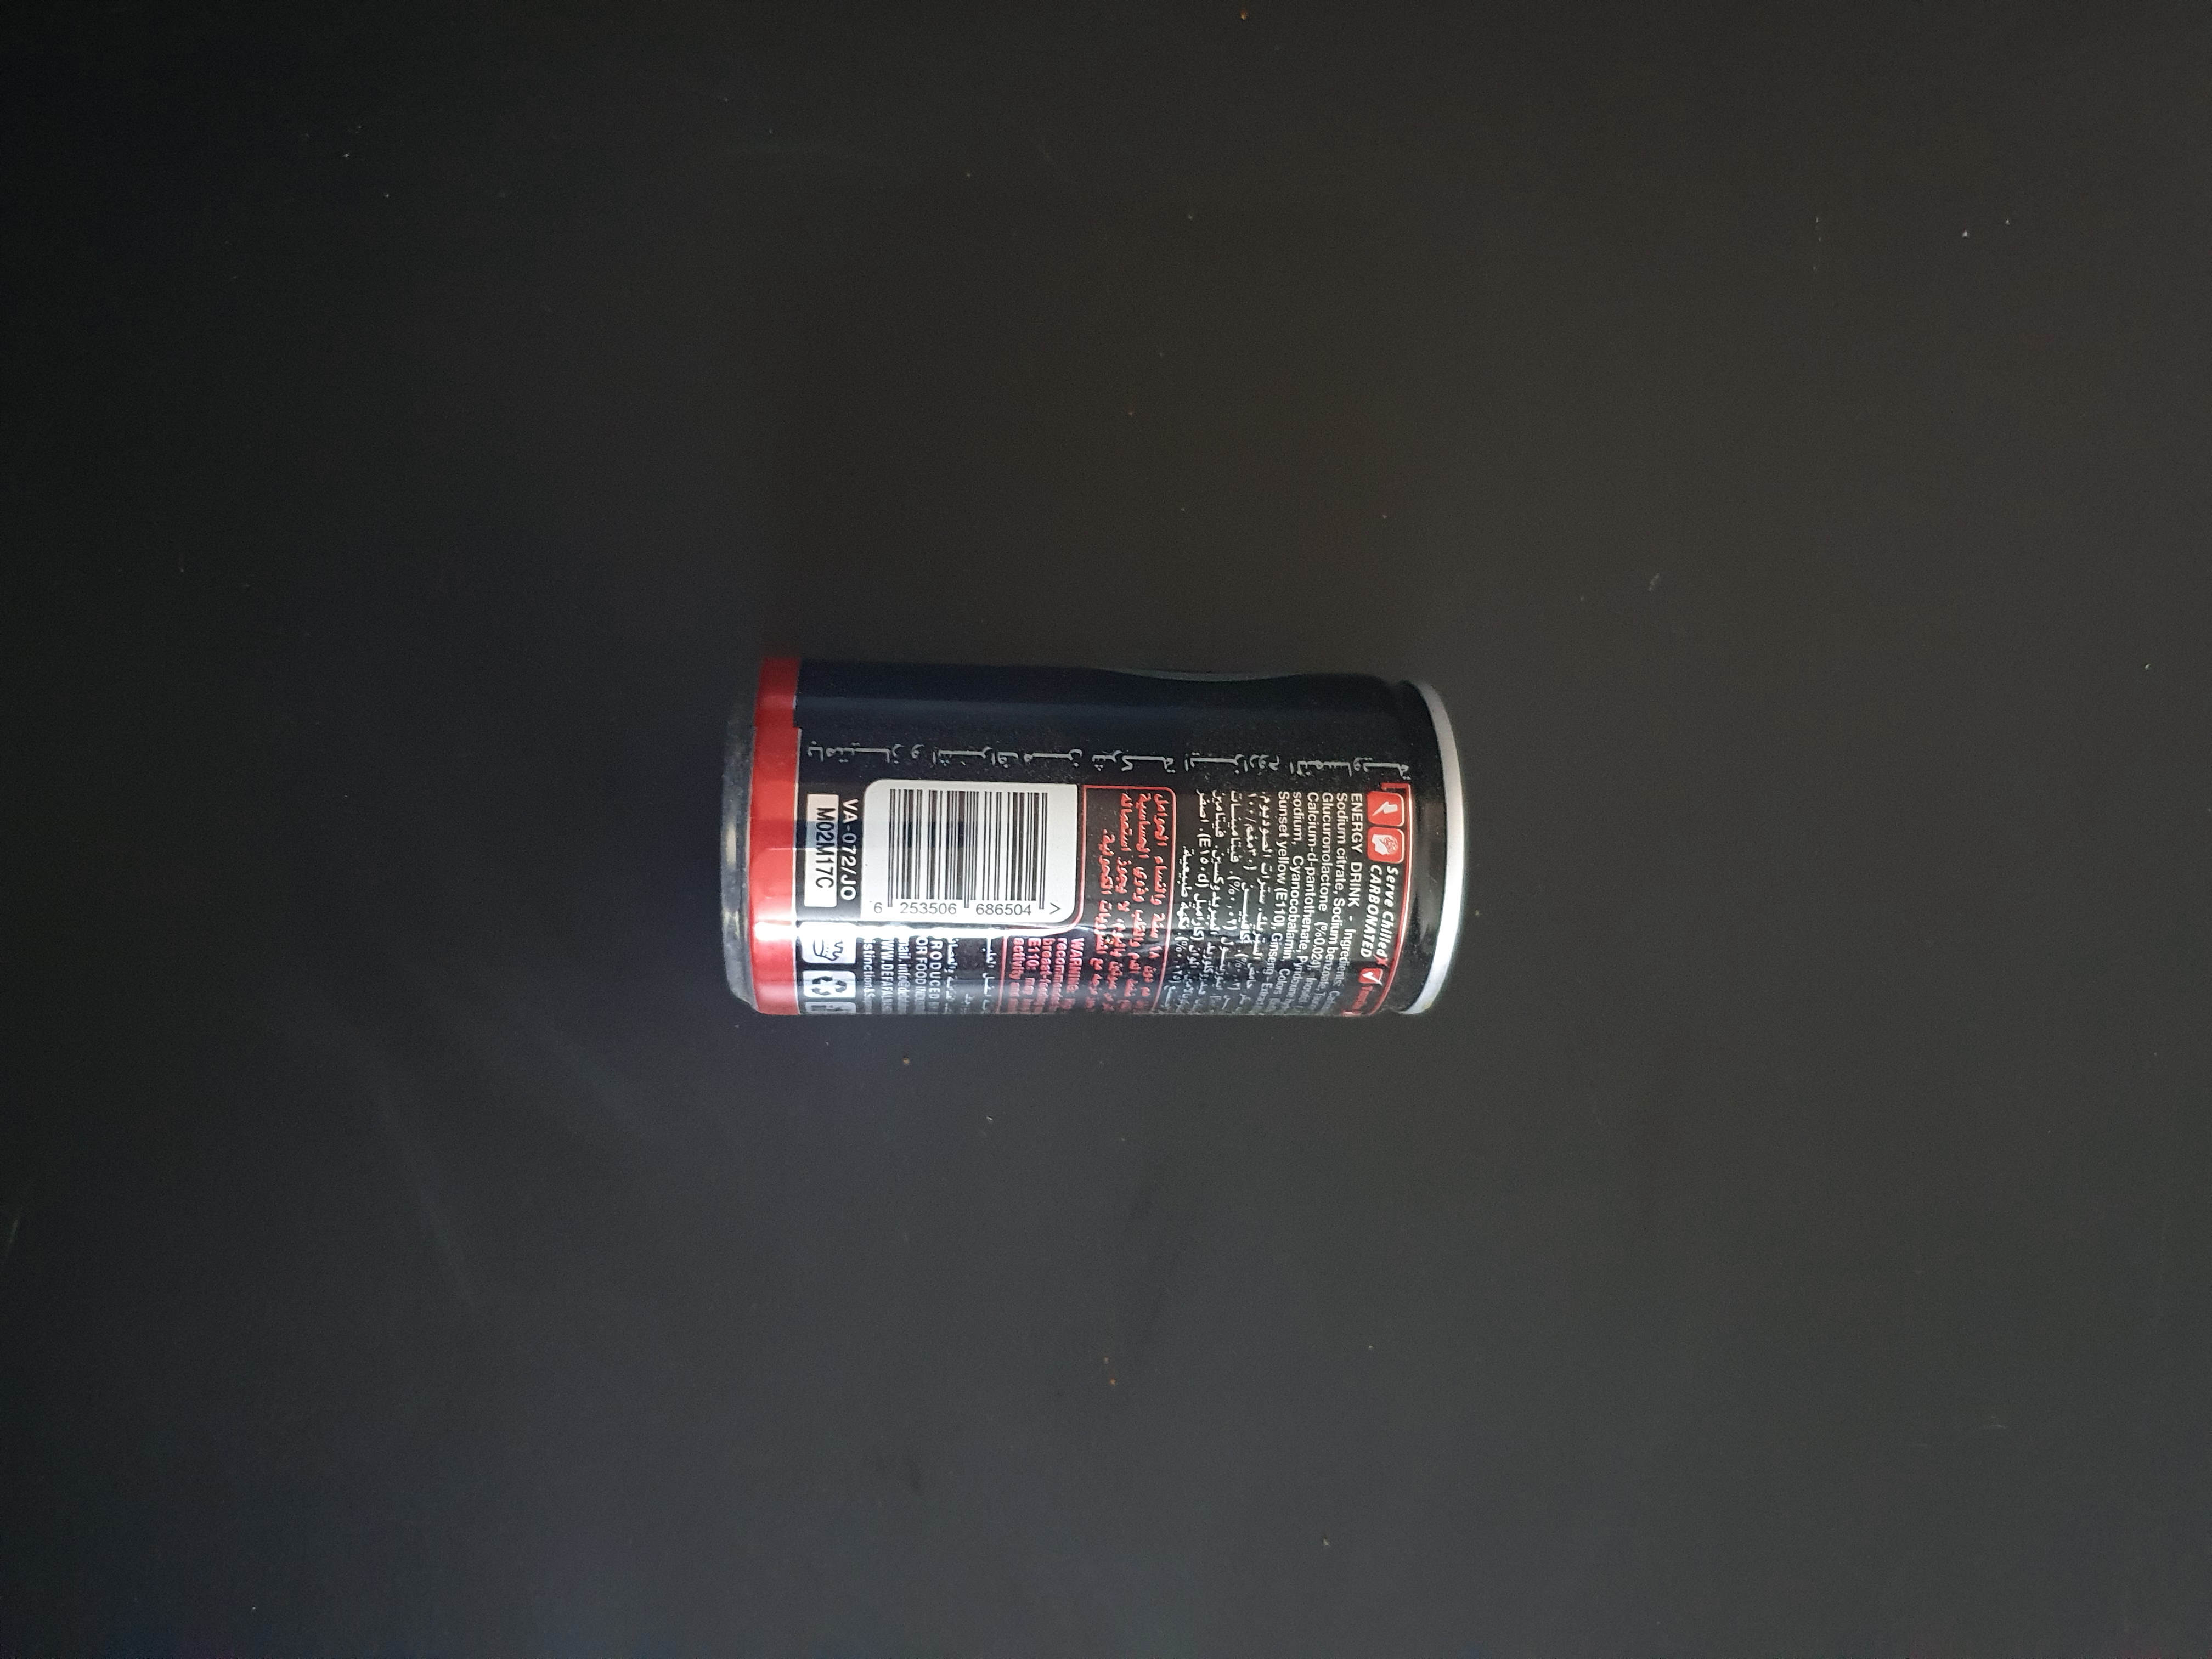metal: (681, 612, 1510, 1096)
